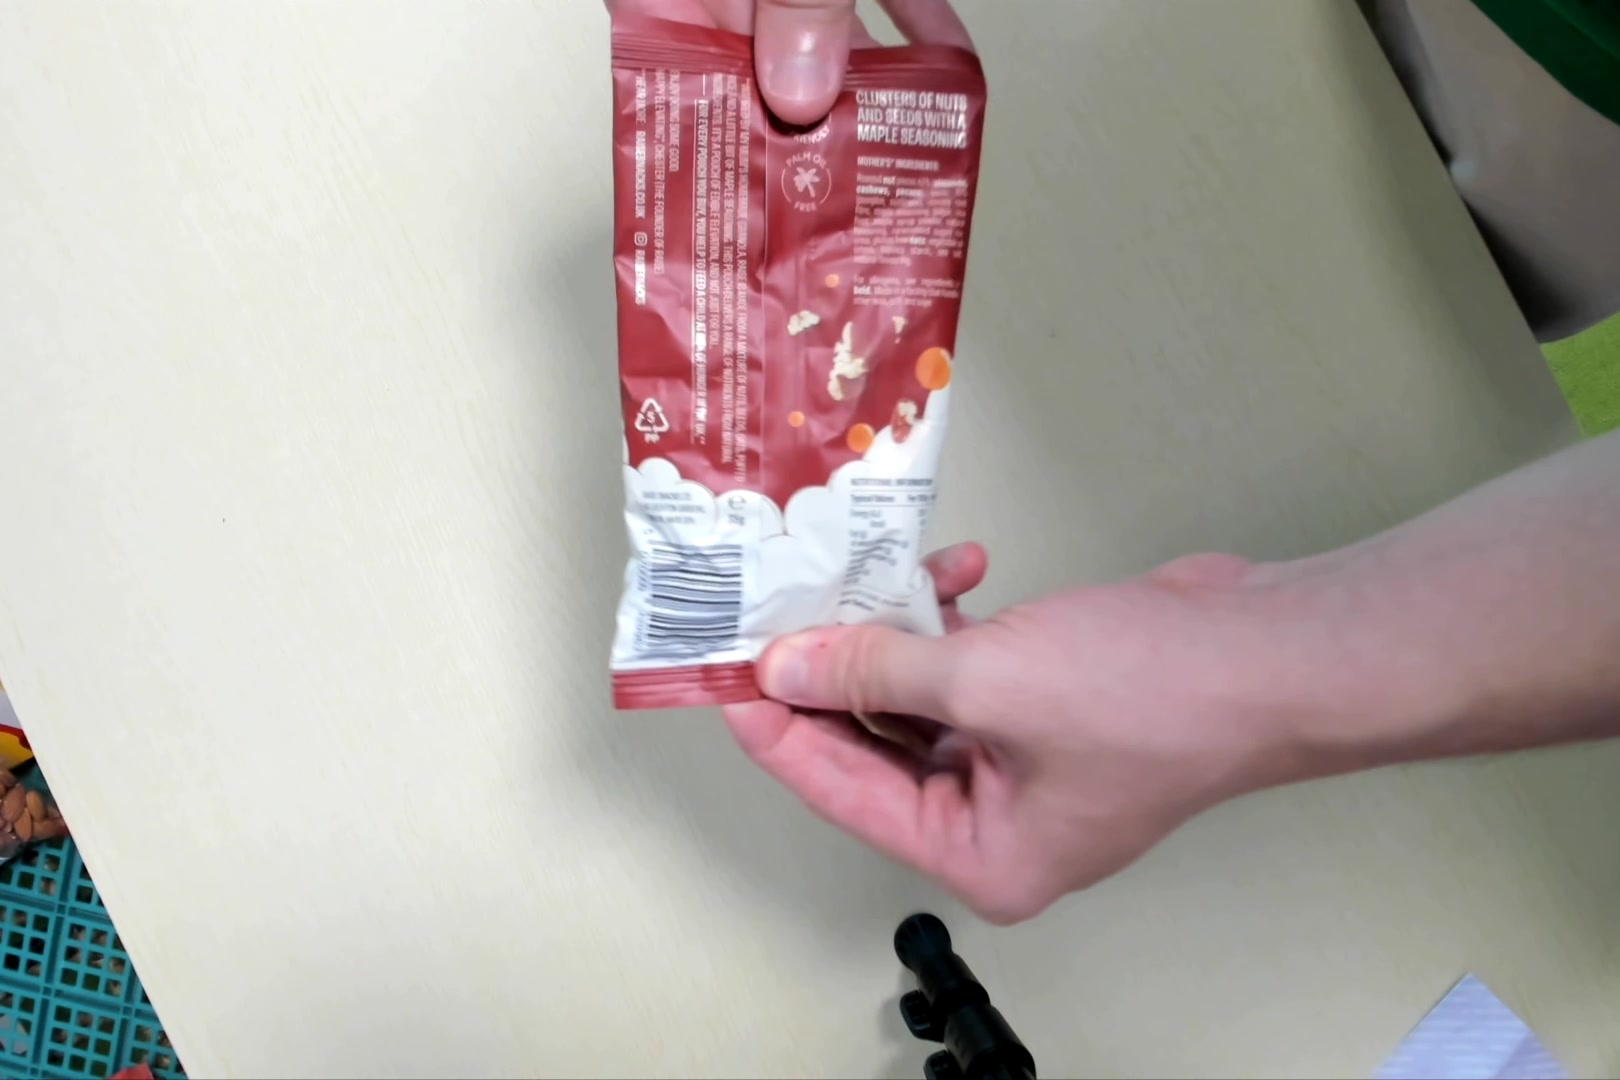Nuts_0-99g_NonHalal_NonHealthy: (606, 31, 981, 721)
